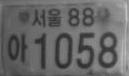0: (54, 32, 73, 70)
1: (34, 31, 50, 70)
5: (76, 30, 95, 69)
8: (98, 31, 119, 70), (66, 7, 81, 27), (82, 7, 95, 27)
서울_H: (30, 8, 62, 30)
아: (7, 33, 28, 61)
